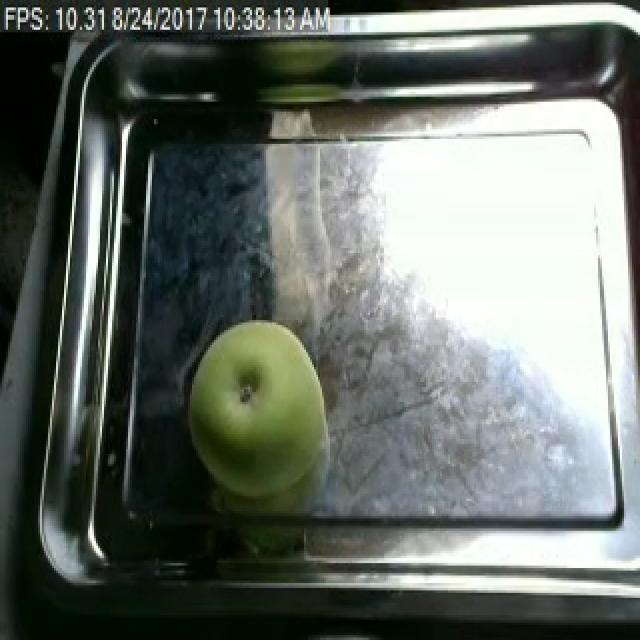50-_ripeness: (186, 302, 346, 502)
